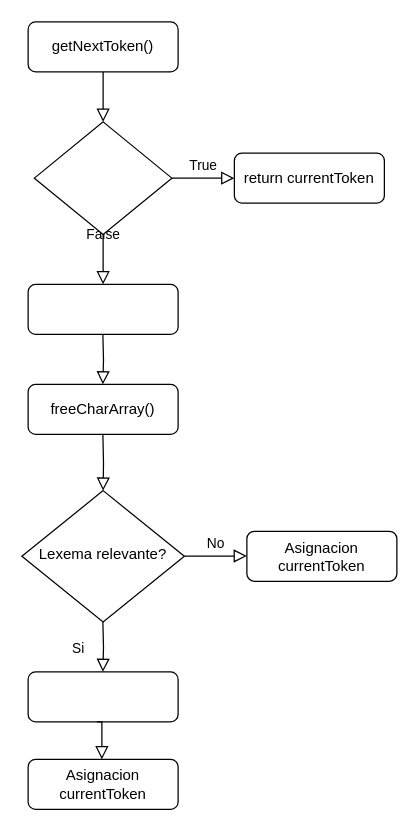
This 419x831 diagram has some shape labels left out. Here are the shapes that lost their labels. From the top down, the centre of each, then its label:
the point at 102,177: tokenMatched?
the point at 102,308: tokenMatched = true
the point at 102,696: guardarValor()
